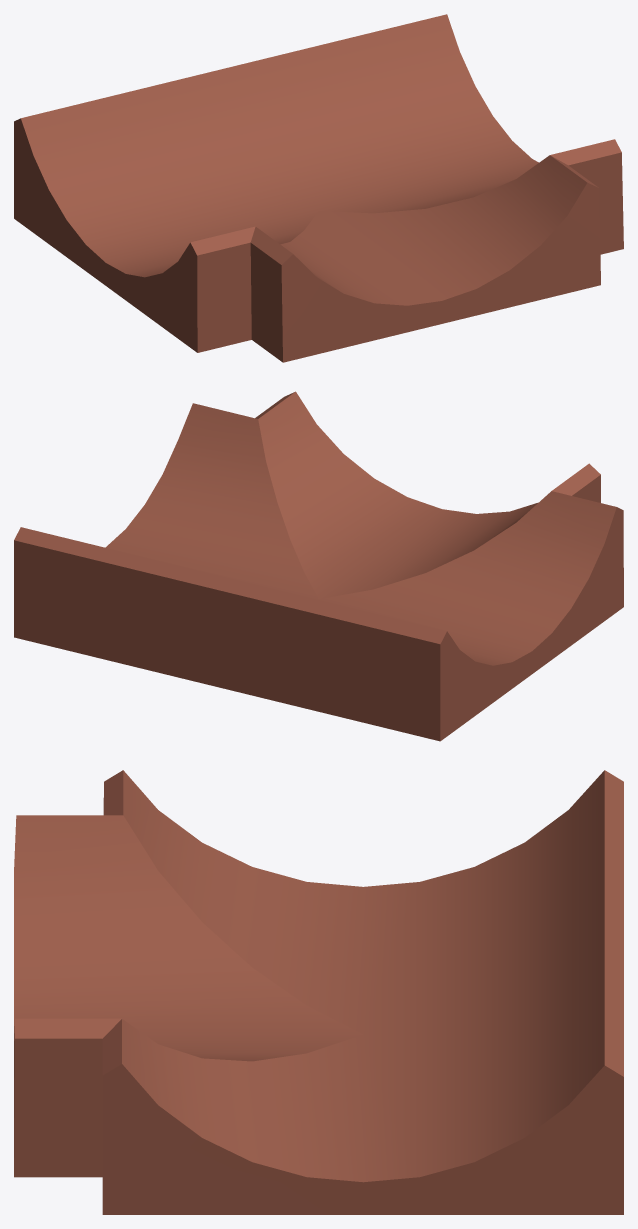
Rendered from RoundCorr_Ceiling_TType_A.FBX.
3 renders of one model, top to bottom at view 1: azimuth 30°, elevation 25°; view 2: azimuth 150°, elevation 25°; view 3: azimuth 270°, elevation 25°, orthographic. The views are drawn at different scales.
Parts seen in each view (by area): view 1: RoundCorr_Ceiling_TType_A; view 2: RoundCorr_Ceiling_TType_A; view 3: RoundCorr_Ceiling_TType_A.
Boxes of the visible parts, left/top/right/bottom form: RoundCorr_Ceiling_TType_A: left=14, top=14, right=623, bottom=362; RoundCorr_Ceiling_TType_A: left=14, top=391, right=623, bottom=741; RoundCorr_Ceiling_TType_A: left=14, top=770, right=623, bottom=1214.
Size of the model in its own units: 602 by 142 by 526.
